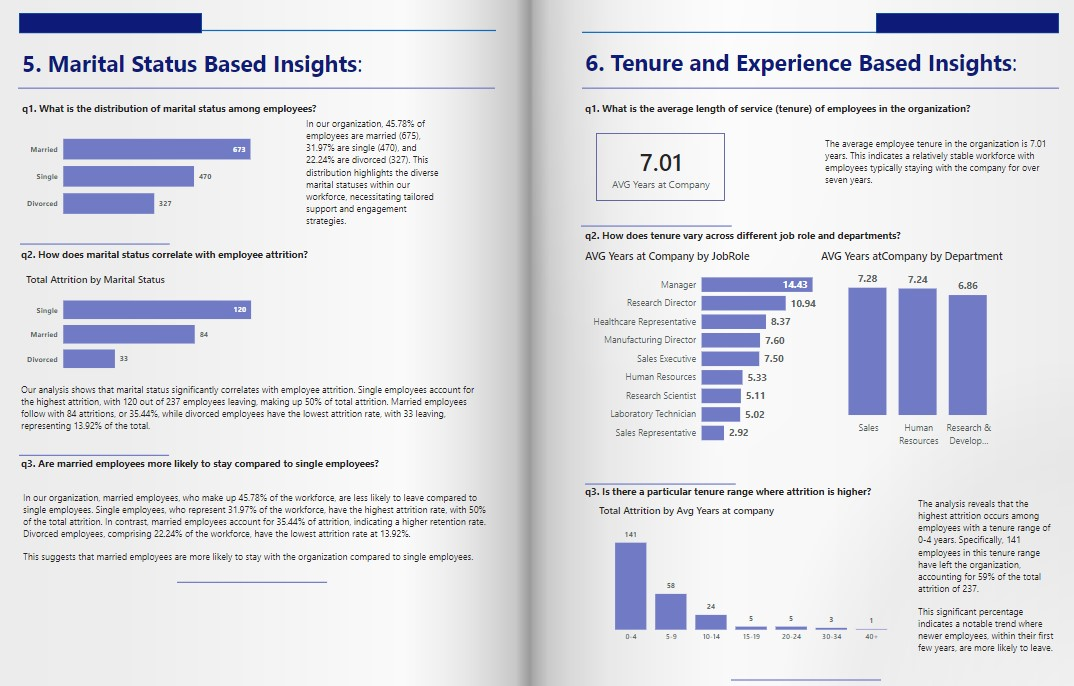

This screenshot's page, from the dashboard's own definition file:
{"tool":"powerbi","page":{"name":"Page 9-10","canvas":[2000,1600],"ordinal":5},"visuals":[{"type":"shape","box":[158.8,207.1,782.4,37.6],"z":0},{"type":"shape","box":[1082.4,209.8,782.4,37.3],"z":1000},{"type":"shape","box":[158.8,196.1,300,33.3],"z":2000},{"type":"shape","box":[1564.7,196.1,300,33.3],"z":3000},{"type":"shape","box":[174.5,1337.3,17.6,76.5],"z":4000},{"type":"textbox","box":[193.3,1356.7,146.7,56.7],"z":5000},{"type":"shape","box":[1743.7,1336.6,16.4,76.1],"z":6000},{"type":"textbox","box":[1760,1356.7,158.3,56.7],"z":7000},{"type":"image","box":[114.9,1347.8,59.7,47.8],"z":8000},{"type":"image","box":[1691.4,1351.6,59.7,47.8],"z":9000},{"type":"textbox","box":[159,249.2,801.6,63.9],"z":10000},{"type":"shape","box":[156.7,301.7,781.7,36.7],"z":11000},{"type":"textbox","box":[158.3,338.3,770,38.3],"z":12000},{"type":"textbox","box":[1082.1,248.2,848.2,64.3],"z":13000},{"type":"shape","box":[1082.2,301.8,781.7,36.7],"z":14000},{"type":"textbox","box":[1082.1,337.5,678.6,39.3],"z":15000},{"type":"shape","box":[1326.2,1278.7,245.9,23],"z":16000},{"type":"textbox","box":[127.8,29.6,633.3,75.9],"z":17000},{"type":"image","box":[9.3,22.2,135.2,92.6],"z":18000},{"type":"textbox","box":[1375,32.1,125,37.5],"z":19000},{"type":"card","fields":{"Values":["Measure.time"]},"box":[1468.5,25.9,342.6,42.6],"z":20000},{"type":"card","fields":{"Values":["Measure.time2"]},"box":[1775.9,25.9,153.7,42.6],"z":21000},{"type":"shape","box":[404.9,1175.4,245.9,13.1],"z":22000},{"type":"textbox","box":[1342.6,393.4,444.3,116.4],"z":23000},{"type":"textbox","box":[1082,545.9,595.1,36.1],"z":24000},{"type":"textbox","box":[1080.3,856.1,678.7,39.3],"z":25000},{"type":"textbox","box":[1523,596.7,365.6,219.7],"z":26000},{"type":"shape","box":[1082,849.5,245.9,13.1],"z":27000},{"type":"clusteredBarChart","fields":{"Category":["HR-Employee-Attrition.JobRole"],"Y":["Measure.% of attrititon"]},"box":[165.6,372.1,406.6,278.7],"z":28000},{"type":"textbox","box":[503.3,529.5,367.2,121.3],"z":29000},{"type":"textbox","box":[156.8,718.6,770,46.7],"z":30000},{"type":"shape","box":[160.2,710.3,245,13.3],"z":31000},{"type":"shape","box":[1081.1,539.8,246.7,13.3],"z":32000},{"type":"image","box":[26.8,1485.7,89.3,92.9],"z":33000},{"type":"textbox","box":[112.5,1512.5,314.3,39.3],"z":34000},{"type":"card","fields":{"Values":["Avg(HR-Employee-Attrition.WorkLifeBalance)"]},"box":[1105.4,392.9,210.7,110.7],"z":35000},{"type":"clusteredBarChart","title":"Total Atrititon by Work Life Balance","fields":{"Y":["Measure.Total Atrititon"],"Category":["HR-Employee-Attrition.WorkLifeBalance"]},"box":[1082,582,424.6,259],"z":36000},{"type":"tableEx","title":"Total Attrition by Marital Status","fields":{"Values":["HR-Employee-Attrition.Department","Measure.Total Employee","Measure.Total Atrititon","Measure.% of attrititon","Measure.Active Employee"]},"box":[159,752.5,686.9,209.8],"z":37000},{"type":"clusteredBarChart","fields":{"Category":["HR-Employee-Attrition.JobRole"],"Y":["Avg(HR-Employee-Attrition.WorkLifeBalance)"]},"box":[1080.3,884,339.3,278.7],"z":38000},{"type":"clusteredBarChart","fields":{"Y":["Avg(HR-Employee-Attrition.WorkLifeBalance)"],"Category":["HR-Employee-Attrition.Department"]},"box":[1449.2,884,362.3,263.9],"z":39000},{"type":"textbox","box":[1080.3,1162.3,808.2,98.4],"z":40000},{"type":"pageNavigator","box":[634.4,1501.6,1295.1,50.8],"z":40001}]}

Visuals, with their boxes on the page's 2000x1600 design canvas (x1, y1, x2, y2). These are canvas units, not pixel positions in the 1074x686 screenshot, which may show the page scaled, cropped or inside an application window:
shape: <bbox>159, 207, 941, 245</bbox>
shape: <bbox>1082, 210, 1865, 247</bbox>
shape: <bbox>159, 196, 459, 229</bbox>
shape: <bbox>1565, 196, 1865, 229</bbox>
shape: <bbox>174, 1337, 192, 1414</bbox>
textbox: <bbox>193, 1357, 340, 1413</bbox>
shape: <bbox>1744, 1337, 1760, 1413</bbox>
textbox: <bbox>1760, 1357, 1918, 1413</bbox>
image: <bbox>115, 1348, 175, 1396</bbox>
image: <bbox>1691, 1352, 1751, 1399</bbox>
textbox: <bbox>159, 249, 961, 313</bbox>
shape: <bbox>157, 302, 938, 338</bbox>
textbox: <bbox>158, 338, 928, 377</bbox>
textbox: <bbox>1082, 248, 1930, 312</bbox>
shape: <bbox>1082, 302, 1864, 338</bbox>
textbox: <bbox>1082, 338, 1761, 377</bbox>
shape: <bbox>1326, 1279, 1572, 1302</bbox>
textbox: <bbox>128, 30, 761, 106</bbox>
image: <bbox>9, 22, 144, 115</bbox>
textbox: <bbox>1375, 32, 1500, 70</bbox>
card - Measure.time: <bbox>1468, 26, 1811, 68</bbox>
card - Measure.time2: <bbox>1776, 26, 1930, 68</bbox>
shape: <bbox>405, 1175, 651, 1188</bbox>
textbox: <bbox>1343, 393, 1787, 510</bbox>
textbox: <bbox>1082, 546, 1677, 582</bbox>
textbox: <bbox>1080, 856, 1759, 895</bbox>
textbox: <bbox>1523, 597, 1889, 816</bbox>
shape: <bbox>1082, 850, 1328, 863</bbox>
clusteredBarChart - HR-Employee-Attrition.JobRole x Measure.% of attrititon: <bbox>166, 372, 572, 651</bbox>
textbox: <bbox>503, 530, 870, 651</bbox>
textbox: <bbox>157, 719, 927, 765</bbox>
shape: <bbox>160, 710, 405, 724</bbox>
shape: <bbox>1081, 540, 1328, 553</bbox>
image: <bbox>27, 1486, 116, 1579</bbox>
textbox: <bbox>112, 1512, 427, 1552</bbox>
card - Avg(HR-Employee-Attrition.WorkLifeBalance): <bbox>1105, 393, 1316, 504</bbox>
"Total Atrititon by Work Life Balance" clusteredBarChart: <bbox>1082, 582, 1507, 841</bbox>
"Total Attrition by Marital Status" tableEx: <bbox>159, 752, 846, 962</bbox>
clusteredBarChart - HR-Employee-Attrition.JobRole x Avg(HR-Employee-Attrition.WorkLifeBalance): <bbox>1080, 884, 1420, 1163</bbox>
clusteredBarChart - Avg(HR-Employee-Attrition.WorkLifeBalance) x HR-Employee-Attrition.Department: <bbox>1449, 884, 1812, 1148</bbox>
textbox: <bbox>1080, 1162, 1888, 1261</bbox>
pageNavigator: <bbox>634, 1502, 1930, 1552</bbox>
